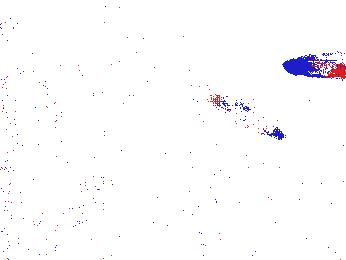X-ray fish: (63, 1, 128, 20)
redtail glassfish: (213, 95, 286, 139), (283, 50, 346, 81)
